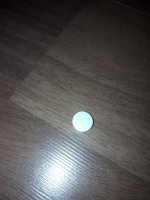Arveles: (71, 110, 95, 134)
